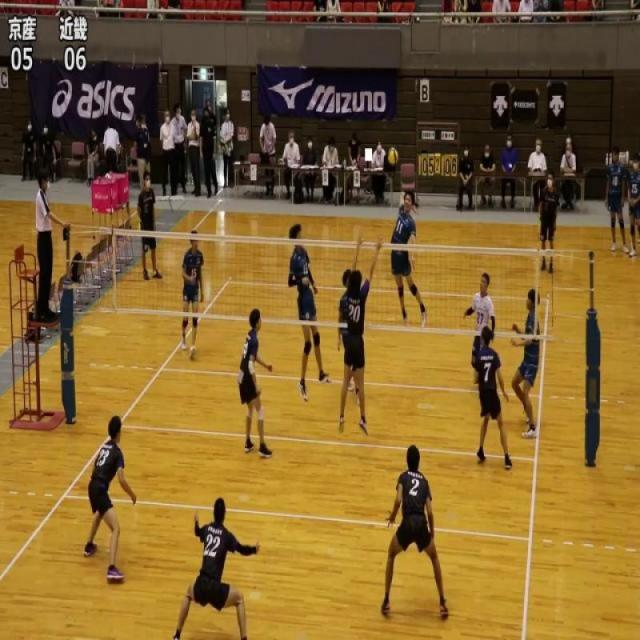volleyball: (388, 145, 398, 166)
